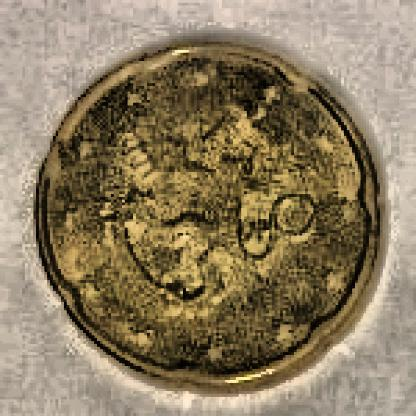coin: (33, 42, 389, 391)
